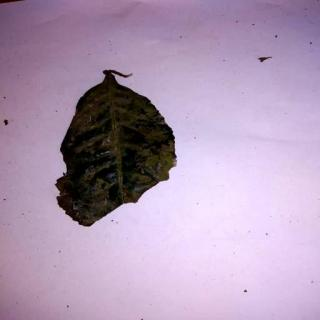Anthracnose: (59, 68, 179, 225)
